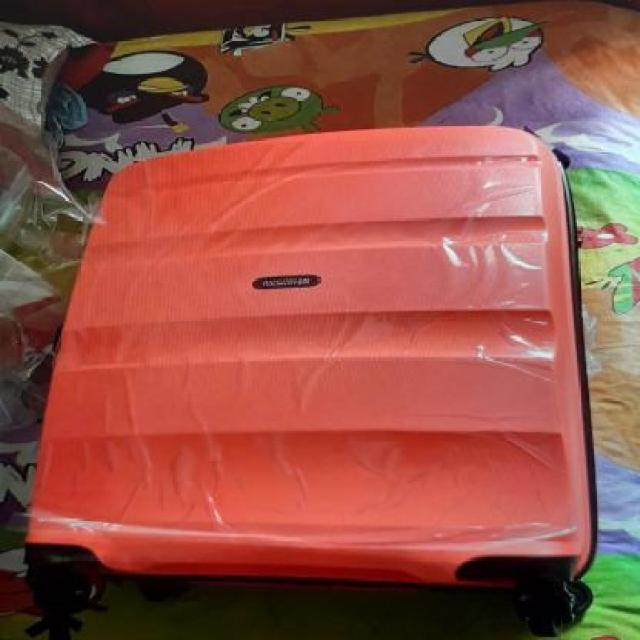backpack: (17, 118, 605, 640)
